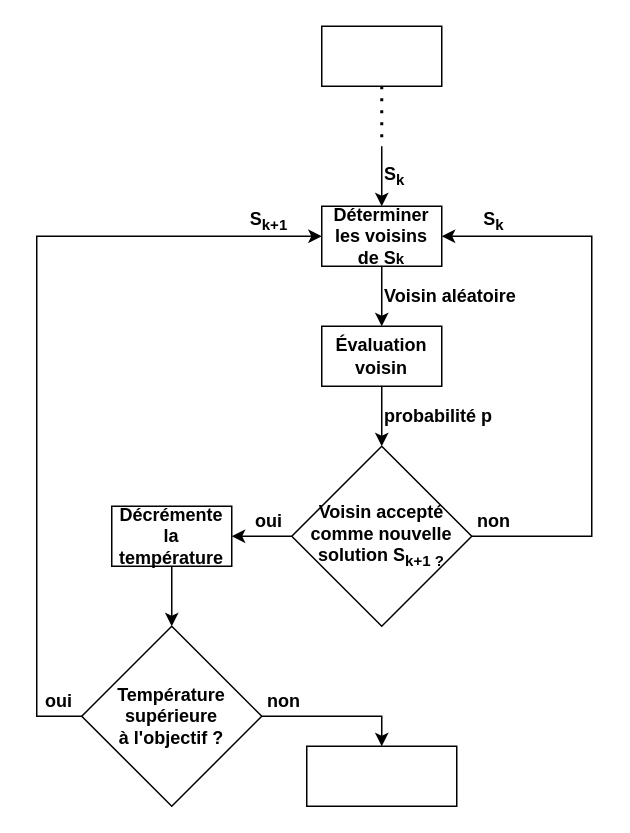
The diagram is 630 pixels wide and 833 high, and some of its shapes have lost their labels. Each missing label, with the centre of its shape:
"S k+1 est la solution optimale rencontrée" belongs at pixel 381 775.
"Solution initiale S 0" belongs at pixel 381 55.
